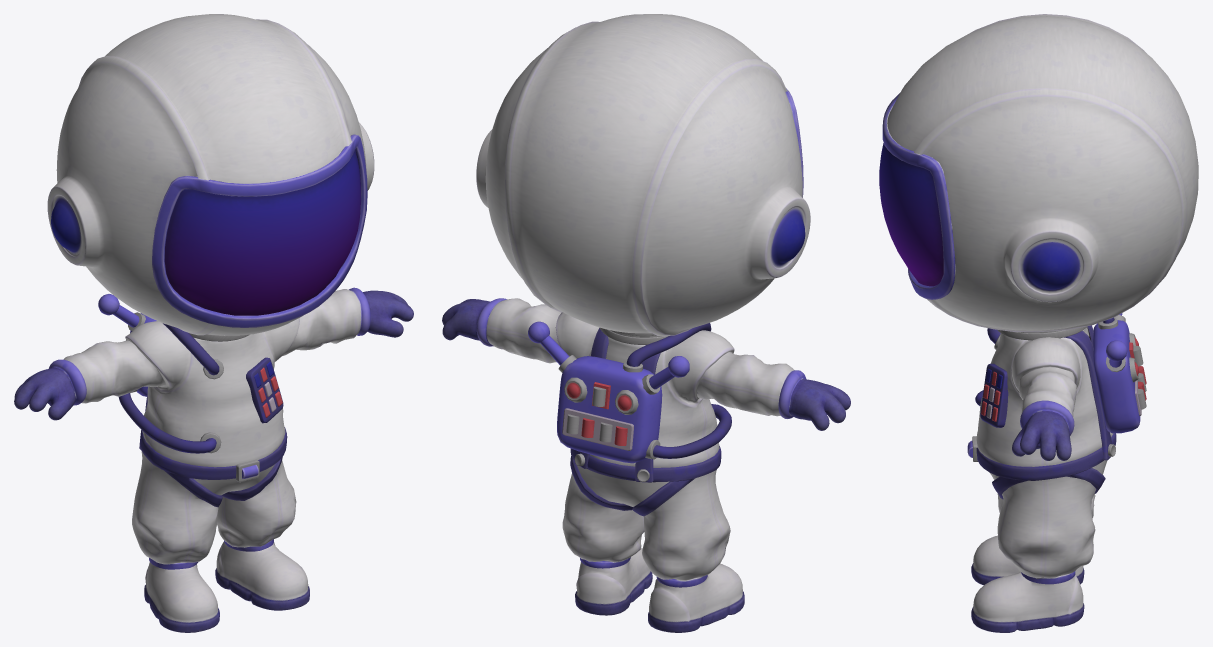
Rendered from AdventurousAstronaut_Model_v01.glb.
3 renders of one model, left to right at view 1: azimuth 30°, elevation 25°; view 2: azimuth 150°, elevation 25°; view 3: azimuth 270°, elevation 25°, orthographic. The views are drawn at different scales.
Visible parts, largest first — view 1: Head, Body:PIV; view 2: Head, Body:PIV; view 3: Head, Body:PIV.
Part boxes in pixels (x1,y1,x2,y2): Head: (47,14,374,335); Body:PIV: (14,287,413,632); Head: (476,14,810,335); Body:PIV: (442,298,850,632); Head: (879,14,1198,332); Body:PIV: (967,313,1146,632).
Bounding box in the file's own units: 8.12 × 11.21 × 5.71.
1 material, 1 textured.
